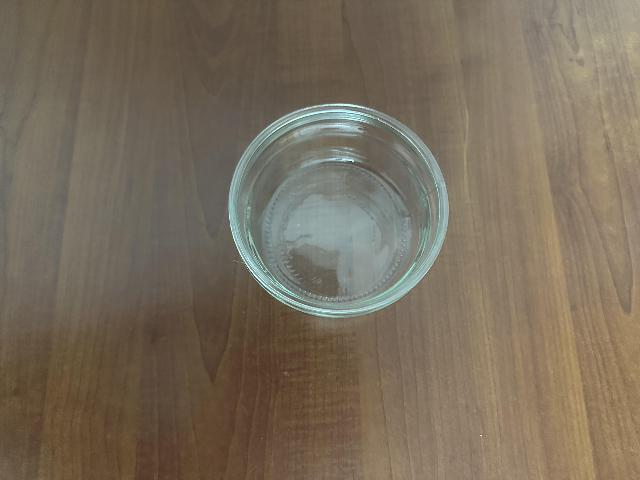Cam: (222, 105, 456, 321)
